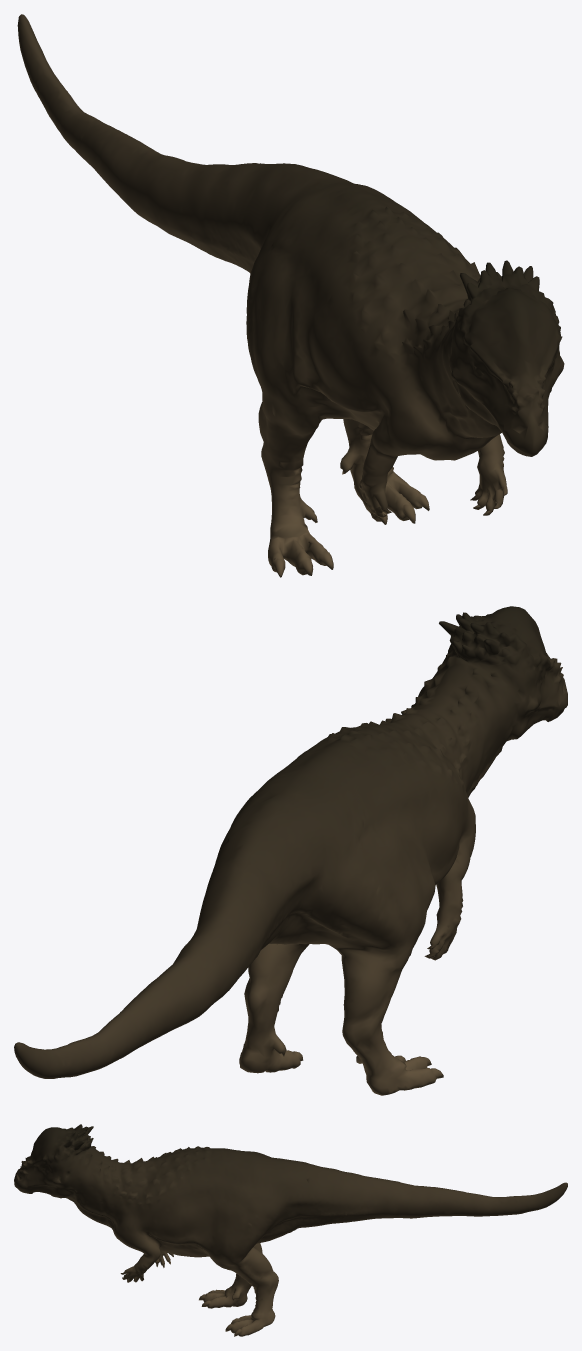
The model's file is pachycephalosaurus.glb.
3 views of the same model, one above another, from view 1: azimuth 30°, elevation 25°; view 2: azimuth 150°, elevation 25°; view 3: azimuth 270°, elevation 25° (orthographic). The views are drawn at different scales.
Parts seen in each view (by area): view 1: pachycephalosaurus; view 2: pachycephalosaurus; view 3: pachycephalosaurus.
Boxes of the visible parts, bbox=[...] form: pachycephalosaurus: bbox=[17, 14, 564, 577]; pachycephalosaurus: bbox=[14, 606, 567, 1095]; pachycephalosaurus: bbox=[14, 1124, 567, 1336].
Bounding box in the file's own units: 33.83 × 66.61 × 174.
